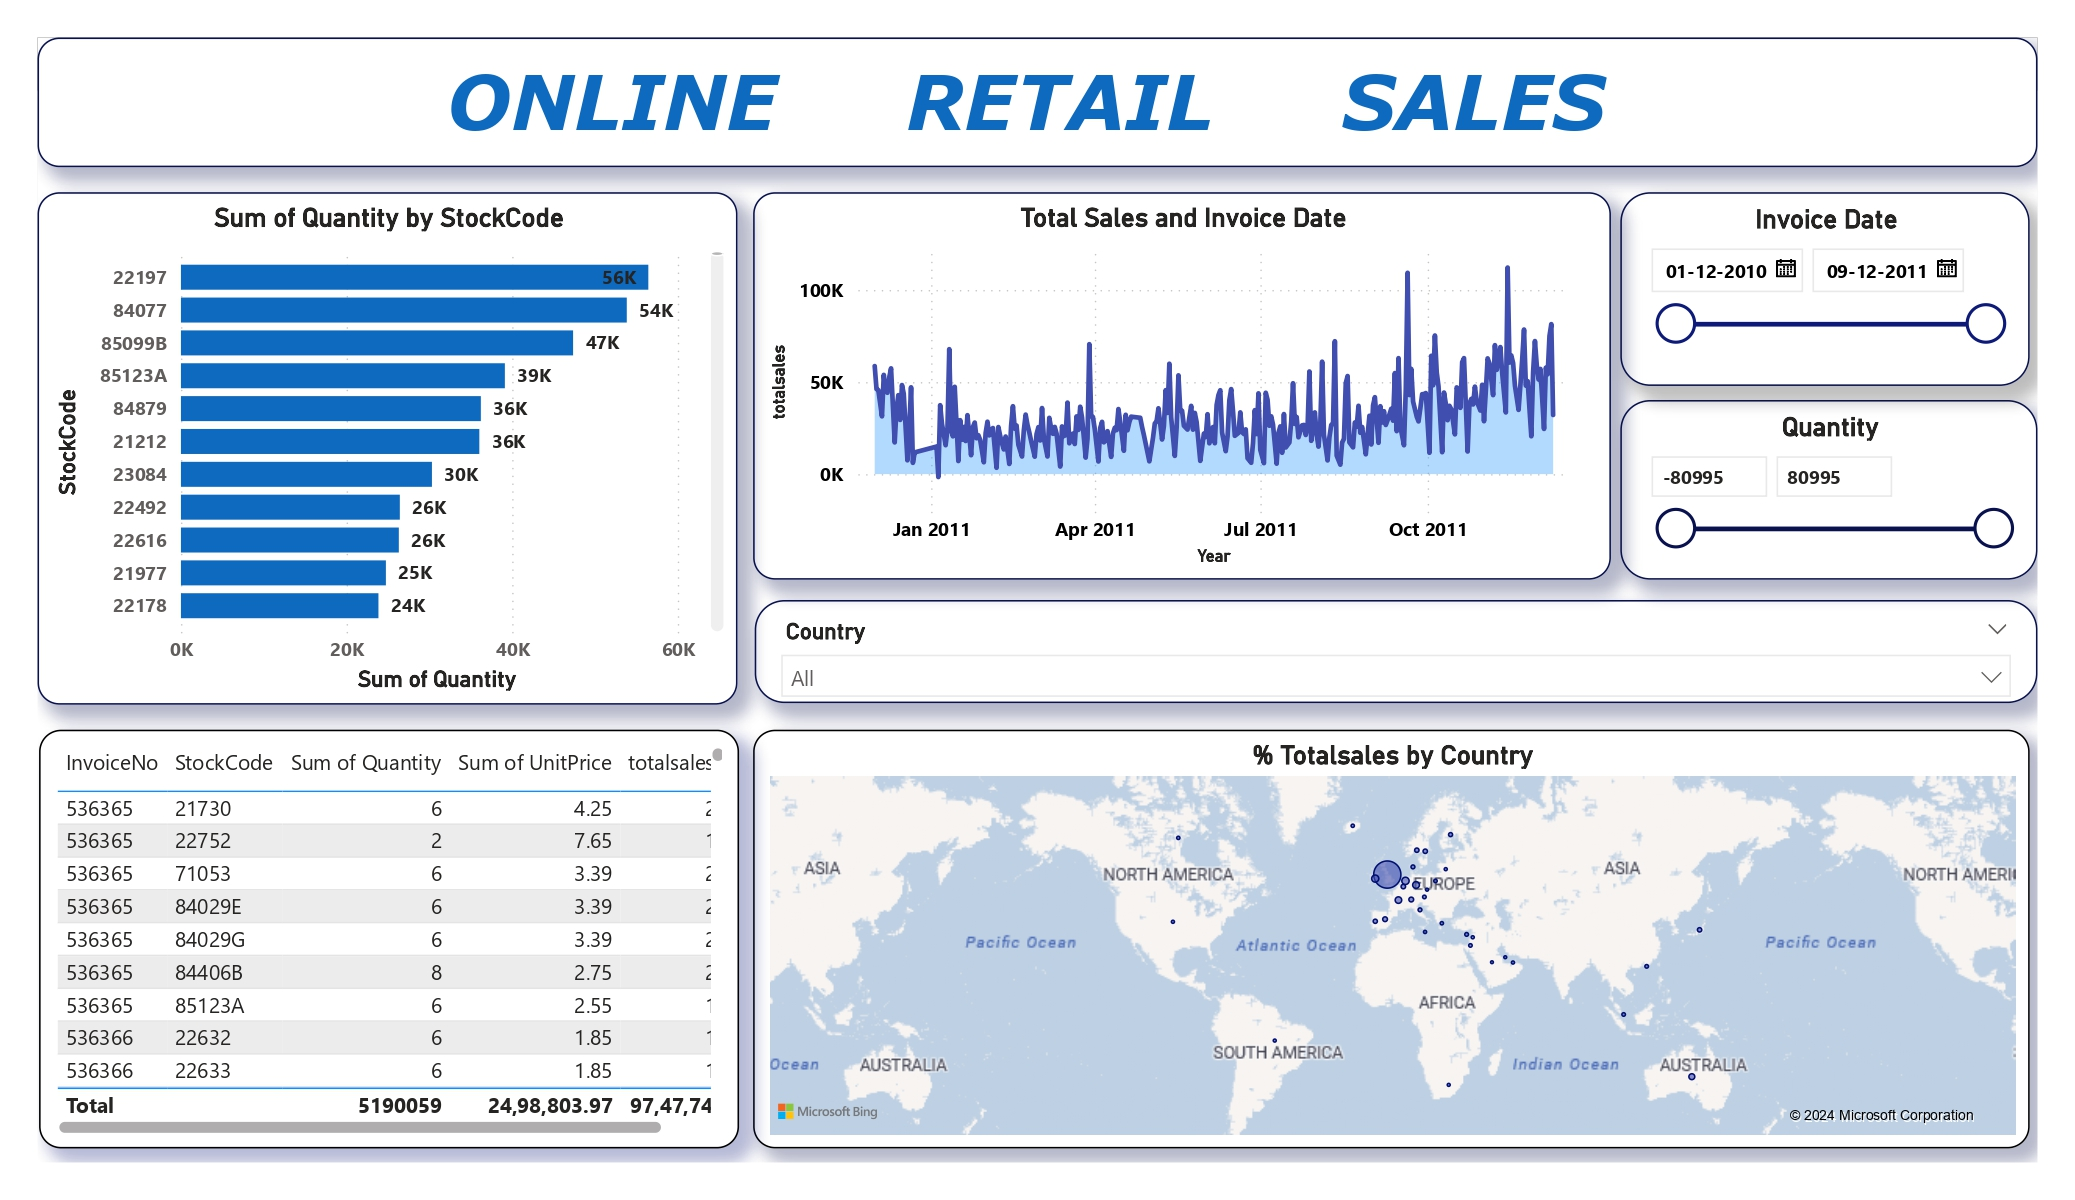

What the dashboard file says about the page in this screenshot:
{"tool":"powerbi","page":{"name":"Page 1","canvas":[1280,720],"ordinal":0},"visuals":[{"type":"textbox","box":[0,0,1280,83.1],"z":0},{"type":"barChart","title":"Sum of Quantity by StockCode","fields":{"Category":["Online Retail.StockCode"],"Y":["Sum(Online Retail.Quantity)"]},"box":[0,98.6,447.6,328.9],"z":1000},{"type":"slicer","title":"Quantity","fields":{"Values":["Online Retail.Quantity"]},"box":[1012.8,231.5,267.2,115.2],"z":2000},{"type":"lineChart","title":"Total Sales and Invoice Date","fields":{"Y":["Online Retail.totalsales"],"Category":["Online Retail.InvoiceDate.Variation.Date Hierarchy.Year","Online Retail.InvoiceDate.Variation.Date Hierarchy.Quarter","Online Retail.InvoiceDate.Variation.Date Hierarchy.Month","Online Retail.InvoiceDate.Variation.Date Hierarchy.Day"]},"box":[458.3,98.6,548.6,248.2],"z":3000},{"type":"slicer","title":"Invoice Date","fields":{"Values":["Online Retail.InvoiceDate"]},"box":[1012.8,98.6,262.4,124.7],"z":4000},{"type":"map","title":"% Totalsales by Country","fields":{"Category":["Online Retail.Country"],"Size":["Online Retail.totalsales"]},"box":[458.3,442.9,816.9,268.3],"z":5000},{"type":"slicer","fields":{"Values":["Online Retail.Country"]},"box":[458.8,360,821.2,66.2],"z":6000},{"type":"tableEx","fields":{"Values":["Online Retail.InvoiceNo","Online Retail.StockCode","Sum(Online Retail.Quantity)","Sum(Online Retail.UnitPrice)","Online Retail.totalsales"]},"box":[1.2,442.9,447.6,268.3],"z":6001}]}

Visuals, with their boxes in screenshot pixels (x1, y1, x2, y2):
textbox: box=[38, 38, 2038, 167]
"Sum of Quantity by StockCode" barChart: box=[38, 192, 737, 705]
"Quantity" slicer: box=[1620, 399, 2038, 579]
"Total Sales and Invoice Date" lineChart: box=[754, 192, 1611, 579]
"Invoice Date" slicer: box=[1620, 192, 2030, 386]
"% Totalsales by Country" map: box=[754, 730, 2030, 1149]
slicer - Online Retail.Country: box=[754, 600, 2038, 703]
tableEx - Online Retail.InvoiceNo x Online Retail.StockCode: box=[39, 730, 739, 1149]
